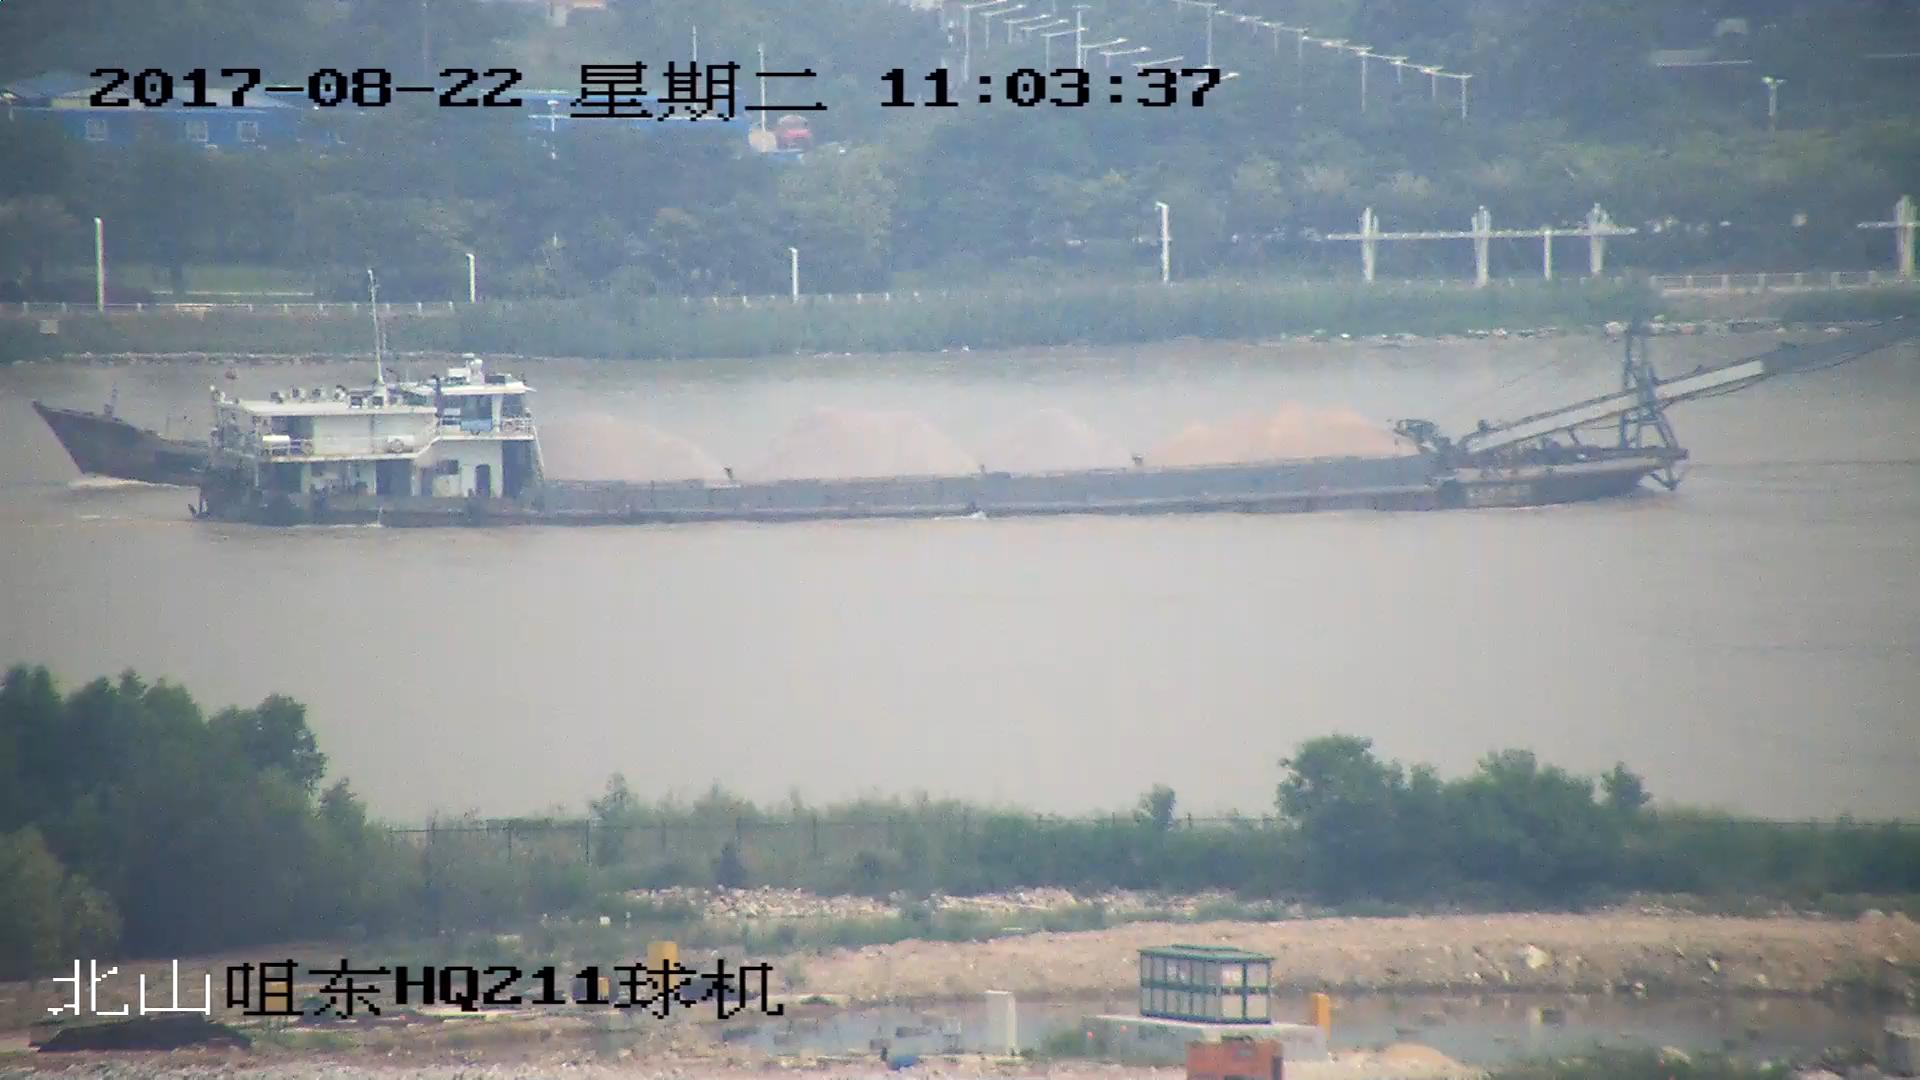fishing boat: (36, 397, 527, 486)
ore carrier: (193, 291, 1920, 527)
